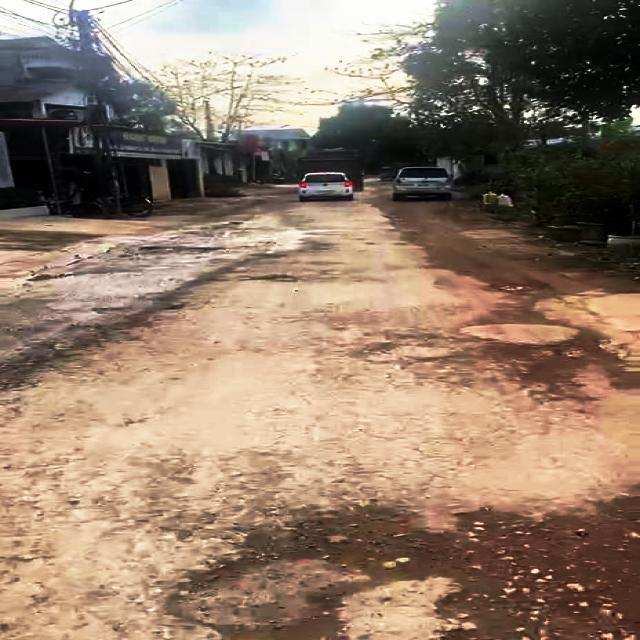pothole: (135, 492, 640, 640)
